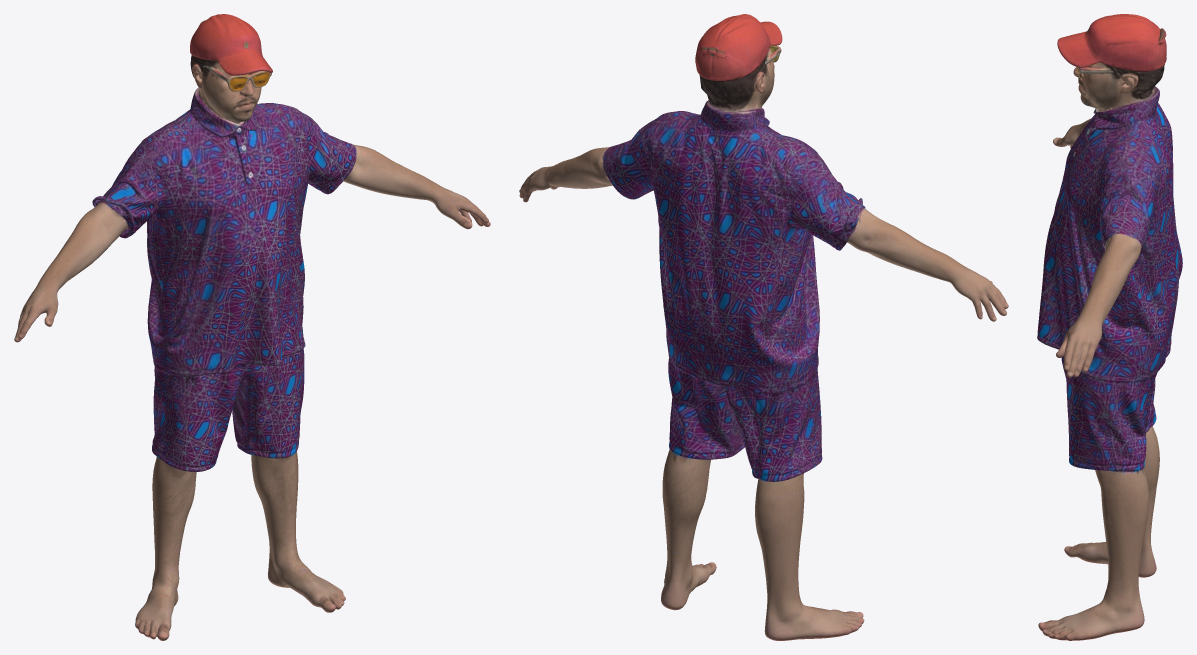
File: neon-summer.glb
3 views of the same model, side by side, from view 1: azimuth 30°, elevation 25°; view 2: azimuth 150°, elevation 25°; view 3: azimuth 270°, elevation 25° (orthographic). The views are drawn at different scales.
Size of the model in its own units: 1.63 by 1.9 by 0.4302.
Materials: 1 (1 with a texture image).
